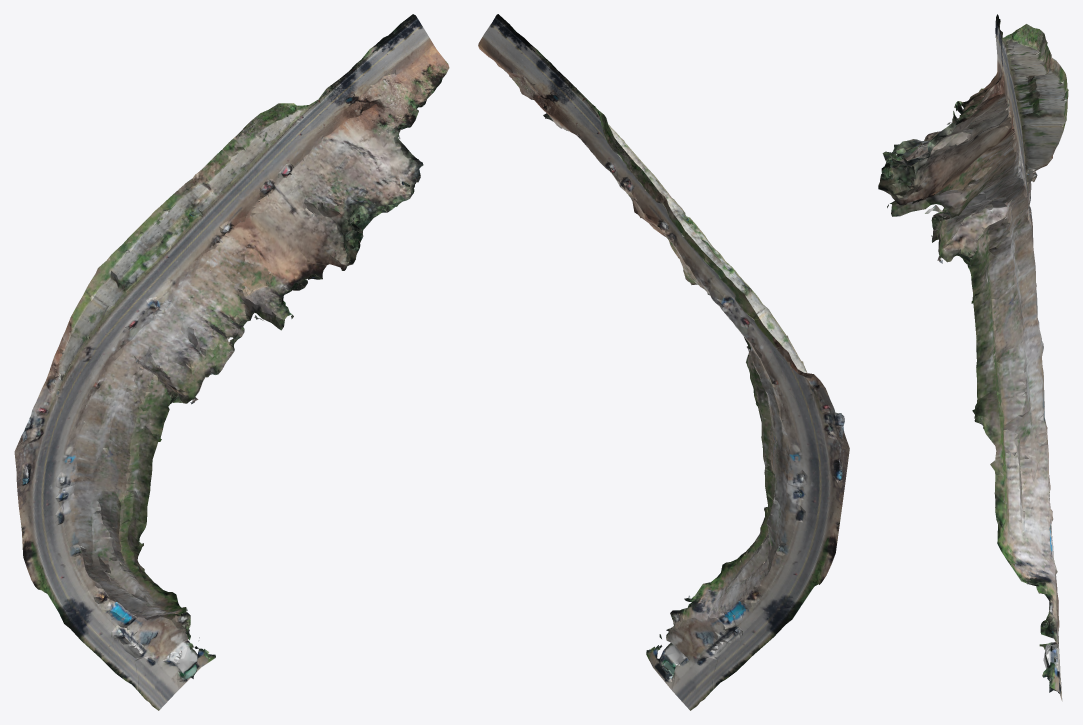
File: t8_0311_superficie.glb
3 views of the same model, side by side, from view 1: azimuth 30°, elevation 25°; view 2: azimuth 150°, elevation 25°; view 3: azimuth 270°, elevation 25° (orthographic). The views are drawn at different scales.
Parts seen in each view (by area): view 1: Bloco 1; view 2: Bloco 1; view 3: Bloco 1.
Part boxes in pixels (box(x1,y1,x2,y2)): Bloco 1: box(14, 14, 449, 710); Bloco 1: box(478, 14, 849, 710); Bloco 1: box(878, 14, 1068, 701).
Bounding box in the file's own units: 168 × 258 × 53.07.
1 material, 1 textured.
